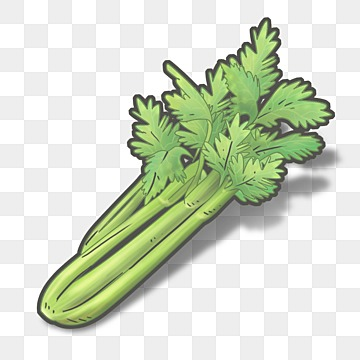Seledri: (45, 45, 336, 328)
